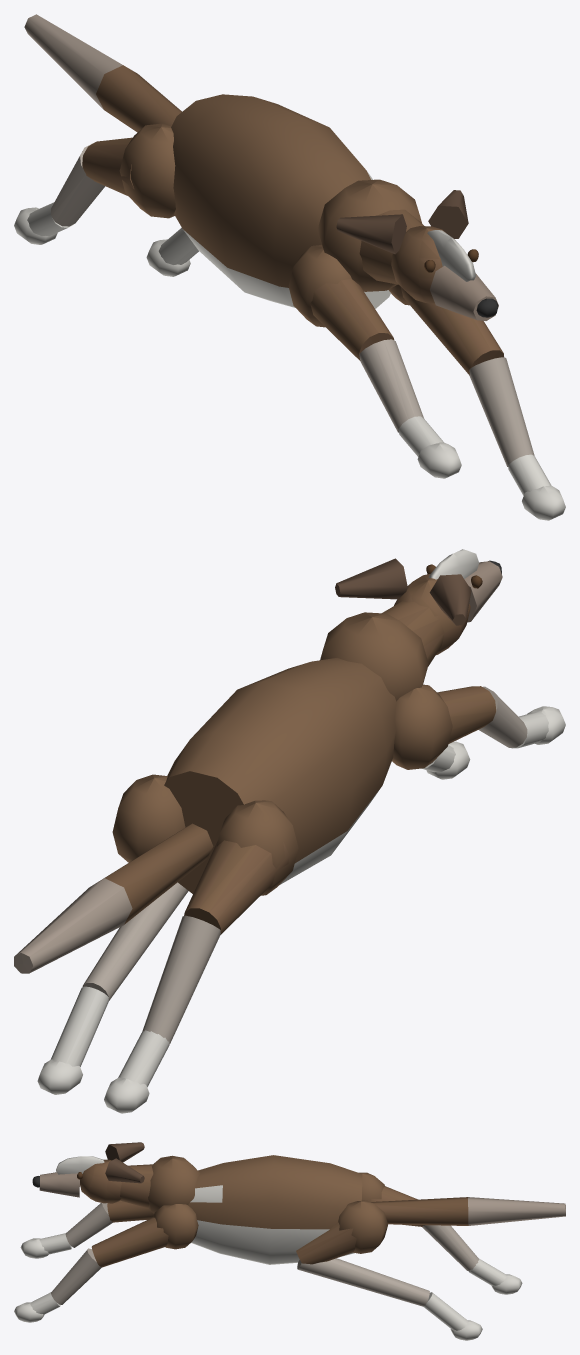
Rendered from biscuit_running_a.glb.
3 renders of one model, top to bottom at view 1: azimuth 30°, elevation 25°; view 2: azimuth 150°, elevation 25°; view 3: azimuth 270°, elevation 25°, orthographic. The views are drawn at different scales.
Visible parts, largest first — view 1: body; view 2: body; view 3: body.
Part boxes in pixels (<box>): body: <box>14,14,565,520</box>; body: <box>14,549,565,1113</box>; body: <box>14,1142,565,1340</box>.
Bounding box in the file's own units: 0.3349 × 0.5745 × 1.67.
